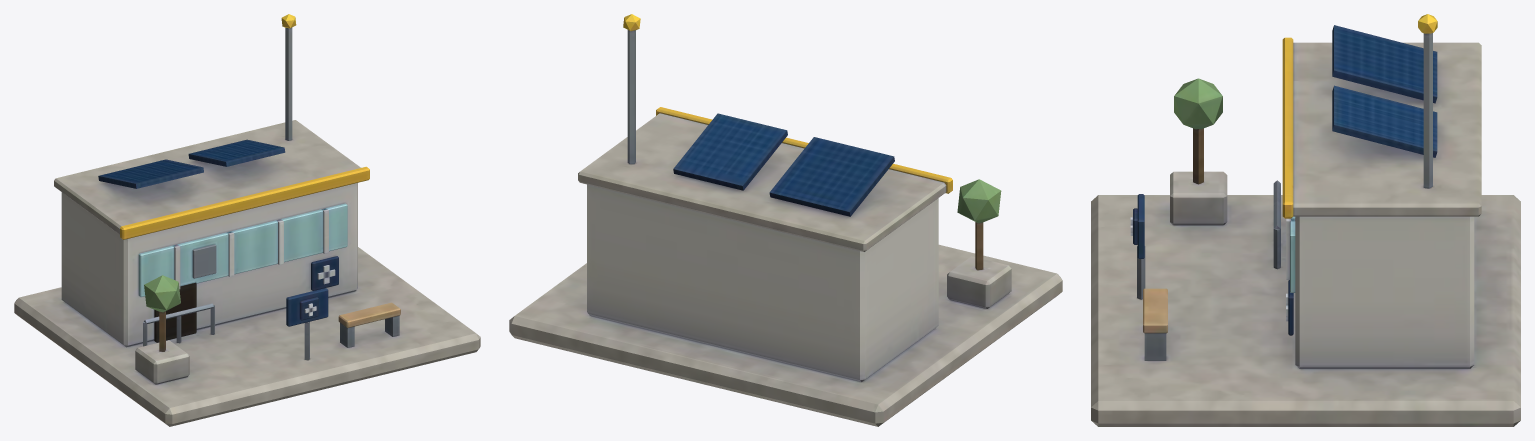
File: infirmary-30.glb
The picture shows the model from 3 angles, left to right: view 1: azimuth 30°, elevation 25°; view 2: azimuth 150°, elevation 25°; view 3: azimuth 270°, elevation 25°; orthographic projection. The views are drawn at different scales.
Parts seen in each view (by area): view 1: infirmary-30; view 2: infirmary-30; view 3: infirmary-30.
Part boxes in pixels (x1,y1,x2,y2): infirmary-30: [14, 14, 480, 426]; infirmary-30: [509, 14, 1062, 426]; infirmary-30: [1091, 14, 1520, 426].
Size of the model in its own units: 1.4 by 1.13 by 1.2.
1 material, 1 textured.
